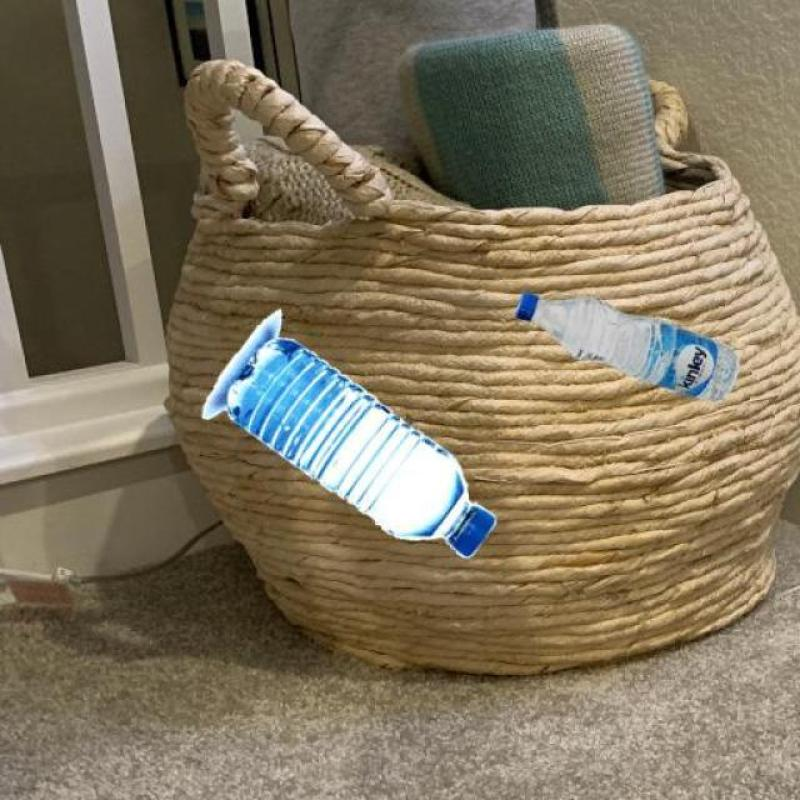botella: (225, 334, 495, 560), (513, 291, 739, 404)
